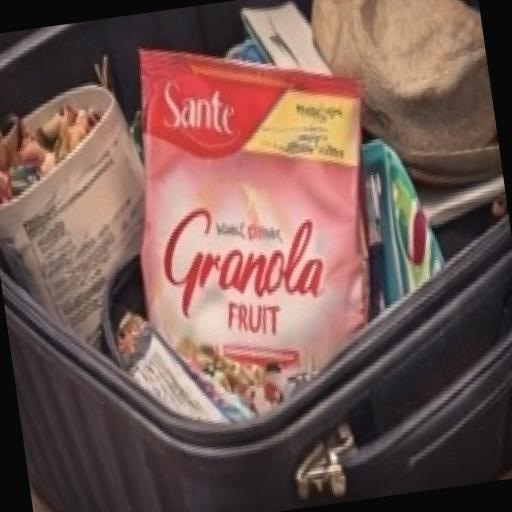granola: (77, 0, 443, 448)
